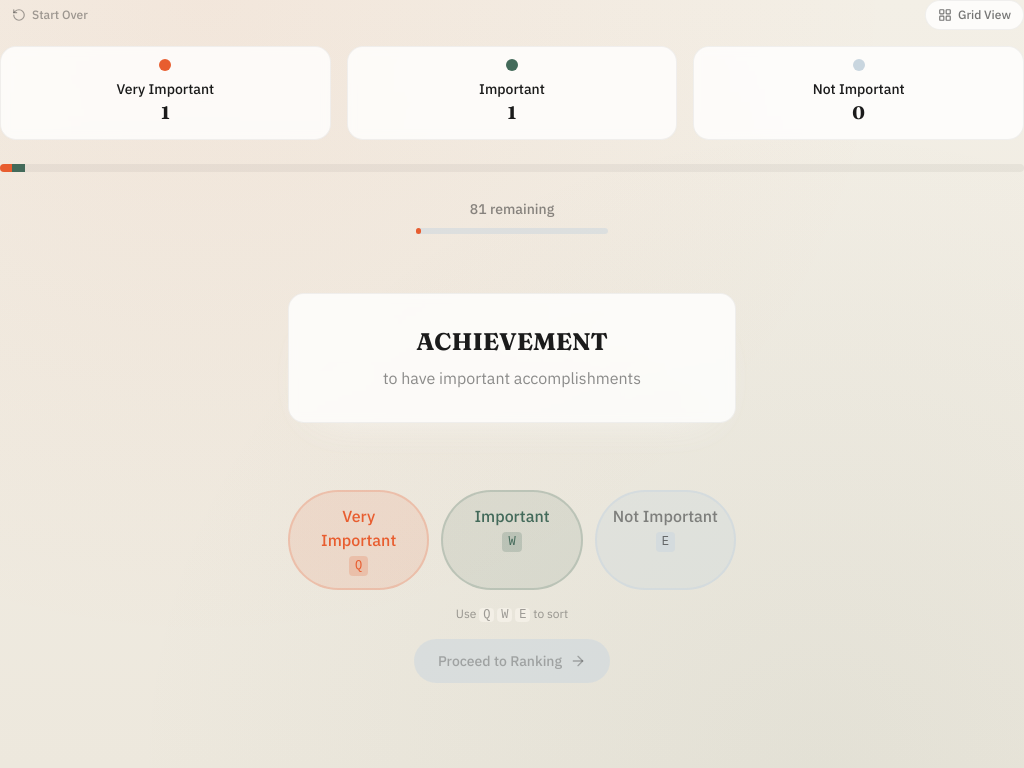
Test: SortingPhase › toggles to grid view on click
This screenshot has width=1024, height=768.
Click the button with aria-label "Switch to grid view". click: {"x": 974, "y": 15}
box: [925,0,1023,30]
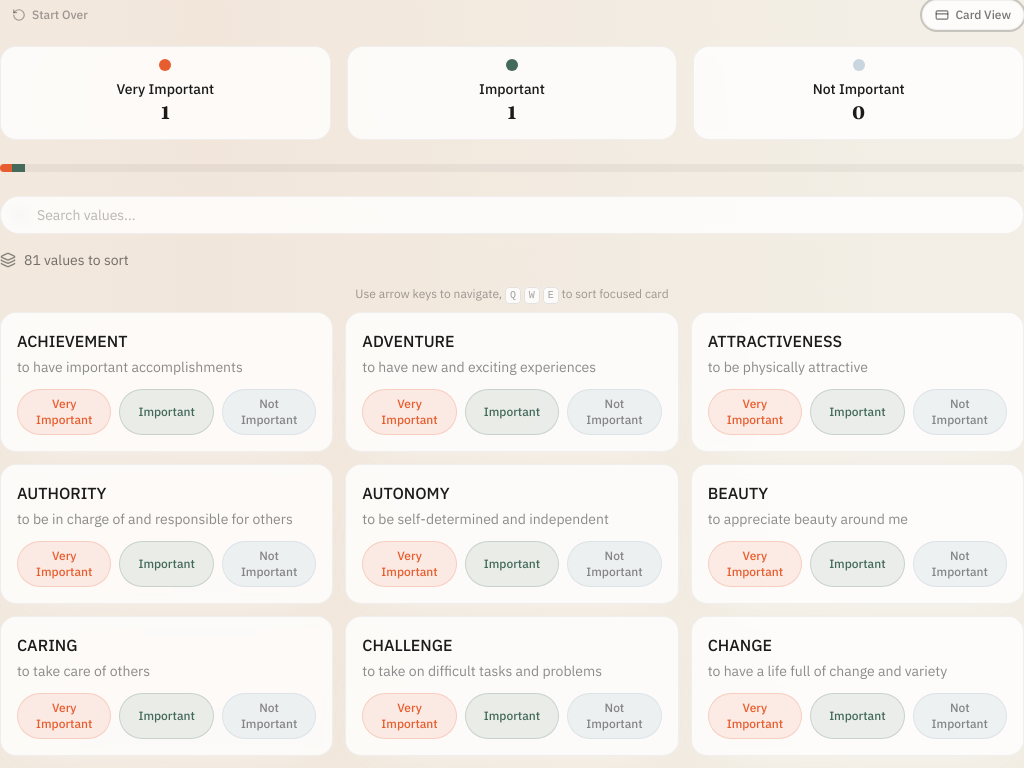
Result: the button with aria-label "Switch to card view" is shown at [922,0,1023,30]
